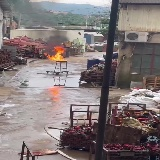fire: (44, 46, 66, 61)
